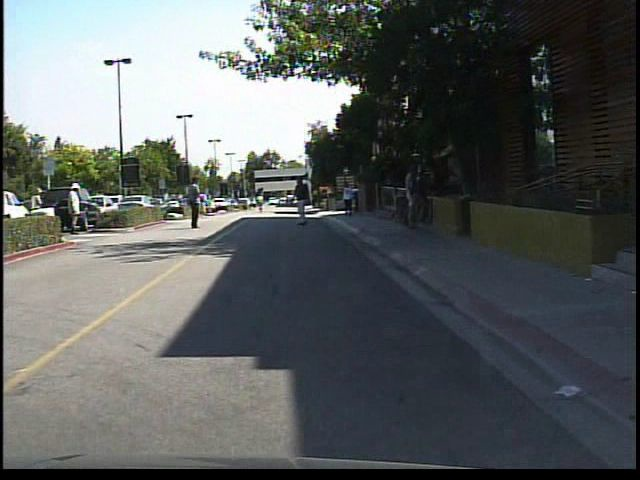person: (399, 154, 429, 236), (182, 172, 209, 233), (292, 171, 319, 229), (419, 165, 441, 230), (66, 177, 89, 237), (28, 182, 51, 239), (339, 177, 358, 222), (254, 190, 269, 213), (201, 189, 207, 216)
